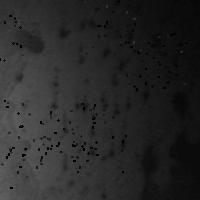pitted_surface: (16, 22, 138, 191), (155, 66, 198, 200), (45, 103, 104, 163), (126, 33, 186, 90), (71, 115, 127, 171), (84, 0, 140, 52), (0, 100, 43, 156), (0, 129, 40, 187), (0, 7, 32, 59)
